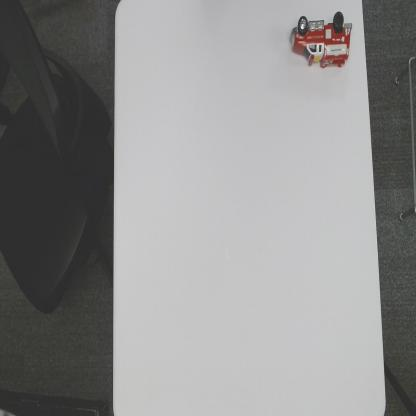Firetruck: (288, 10, 354, 70)
